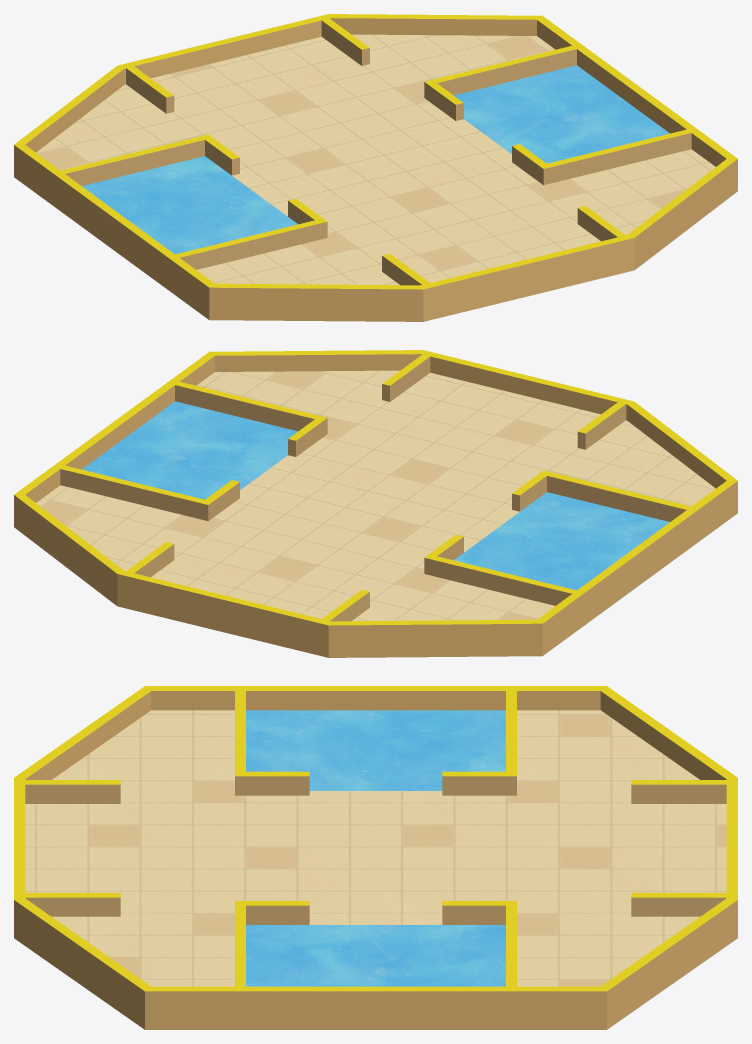
Rendered from battle_stage_42.fbx.
3 views of the same model, one above another, from view 1: azimuth 30°, elevation 25°; view 2: azimuth 150°, elevation 25°; view 3: azimuth 270°, elevation 25° (orthographic). The views are drawn at different scales.
Parts seen in each view (by area): view 1: Cube.016, Cube.017, Cube.024, Cube.025, Cube.023, Cube.018, Cube.020, Cube.019, Cube.022, Cube.021; view 2: Cube.016, Cube.017, Cube.025, Cube.024, Cube.018, Cube.023, Cube.022, Cube.021, Cube.020, Cube.019; view 3: Cube.016, Cube.017, Cube.018, Cube.023, Cube.024, Cube.025, Cube.019, Cube.021, Cube.020, Cube.022.
Part boxes in pixels (left/top/right/bottom): Cube.016: left=36, top=34, right=715, bottom=285; Cube.017: left=14, top=14, right=737, bottom=321; Cube.024: left=512, top=129, right=691, bottom=185; Cube.025: left=424, top=45, right=576, bottom=120; Cube.023: left=60, top=134, right=239, bottom=185; Cube.018: left=175, top=198, right=327, bottom=269; Cube.020: left=321, top=18, right=369, bottom=65; Cube.019: left=126, top=66, right=174, bottom=113; Cube.022: left=577, top=206, right=625, bottom=241; Cube.021: left=382, top=253, right=429, bottom=285; Cube.016: left=36, top=370, right=715, bottom=621; Cube.017: left=14, top=350, right=737, bottom=657; Cube.025: left=60, top=465, right=239, bottom=521; Cube.024: left=175, top=381, right=327, bottom=456; Cube.018: left=512, top=470, right=691, bottom=521; Cube.023: left=424, top=534, right=576, bottom=605; Cube.022: left=382, top=354, right=430, bottom=401; Cube.021: left=577, top=402, right=625, bottom=449; Cube.020: left=126, top=542, right=174, bottom=577; Cube.019: left=322, top=589, right=369, bottom=621; Cube.016: left=25, top=710, right=726, bottom=986; Cube.017: left=14, top=686, right=737, bottom=1029; Cube.018: left=235, top=691, right=309, bottom=795; Cube.023: left=442, top=691, right=516, bottom=795; Cube.024: left=235, top=901, right=309, bottom=986; Cube.025: left=442, top=901, right=516, bottom=986; Cube.019: left=631, top=780, right=727, bottom=803; Cube.021: left=24, top=780, right=120, bottom=803; Cube.020: left=631, top=893, right=727, bottom=916; Cube.022: left=24, top=893, right=120, bottom=916.
Bounding box in the file's own units: 6817 × 400 × 6832.
